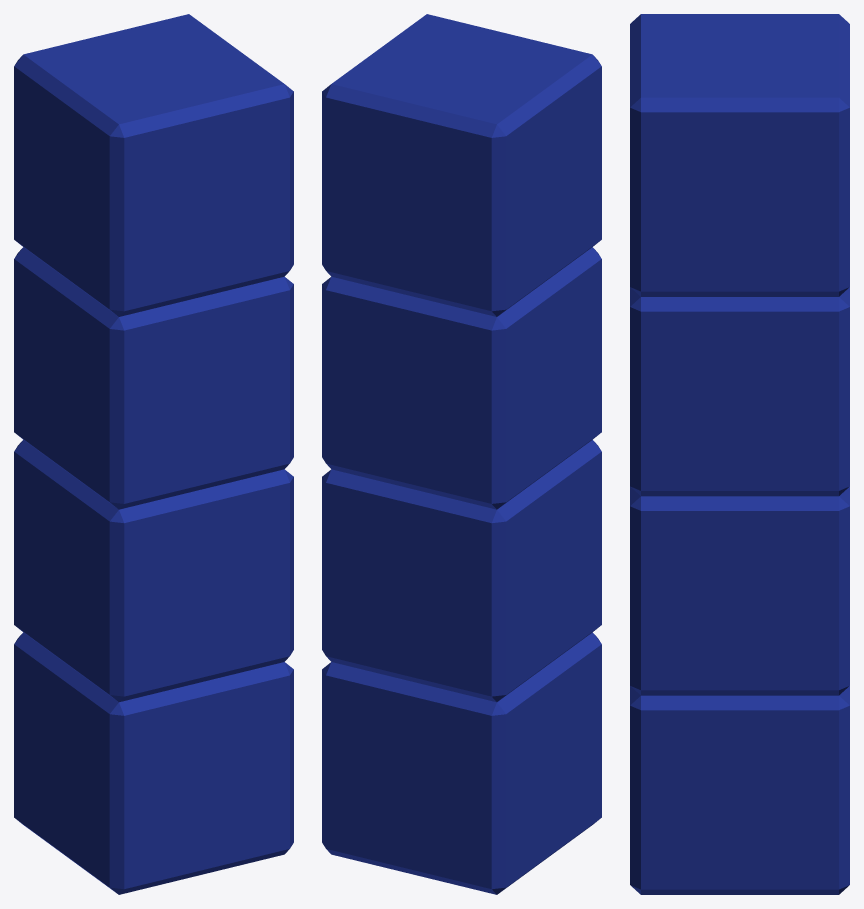
The picture shows the model from 3 angles, left to right: view 1: azimuth 30°, elevation 25°; view 2: azimuth 150°, elevation 25°; view 3: azimuth 270°, elevation 25°; orthographic projection. The views are drawn at different scales.
Parts seen in each view (by area): view 1: geo1; view 2: geo1; view 3: geo1.
Part boxes in pixels (x1,y1,x2,y2): geo1: (14,14,293,894); geo1: (322,14,601,894); geo1: (630,14,849,894).
Bounding box in the file's own units: 1 × 4 × 1.
